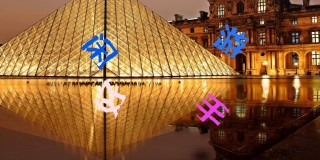好: (92, 80, 125, 117)
手: (195, 93, 230, 126)
游: (212, 22, 249, 59)
闲: (82, 33, 118, 70)
